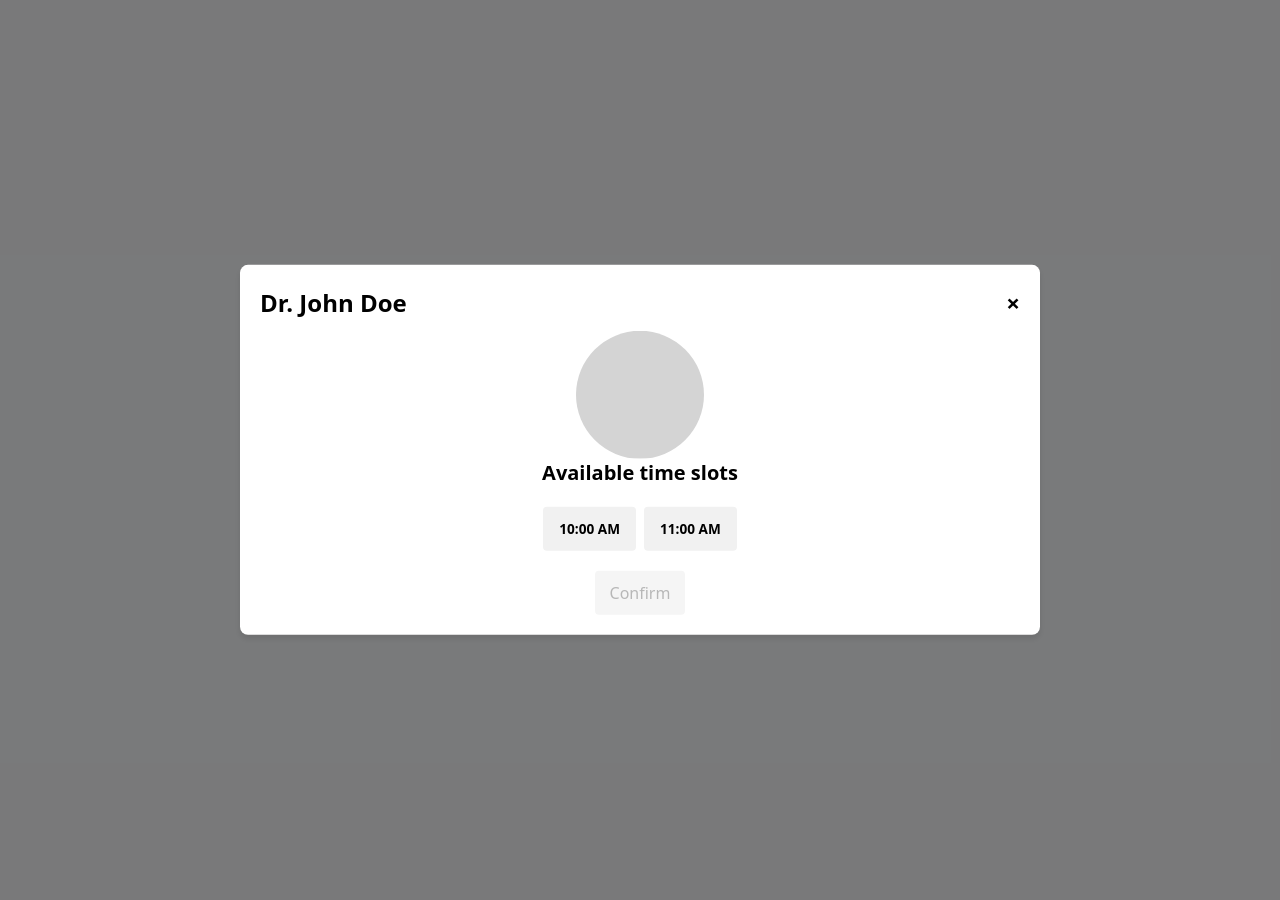
DoctorDetailsModal › deselects time slot when clicked twice
This screenshot has width=1280, height=900.
Click the button "10:00 AM" at (590, 529), box top-left (543, 507), bottom-right (636, 551)
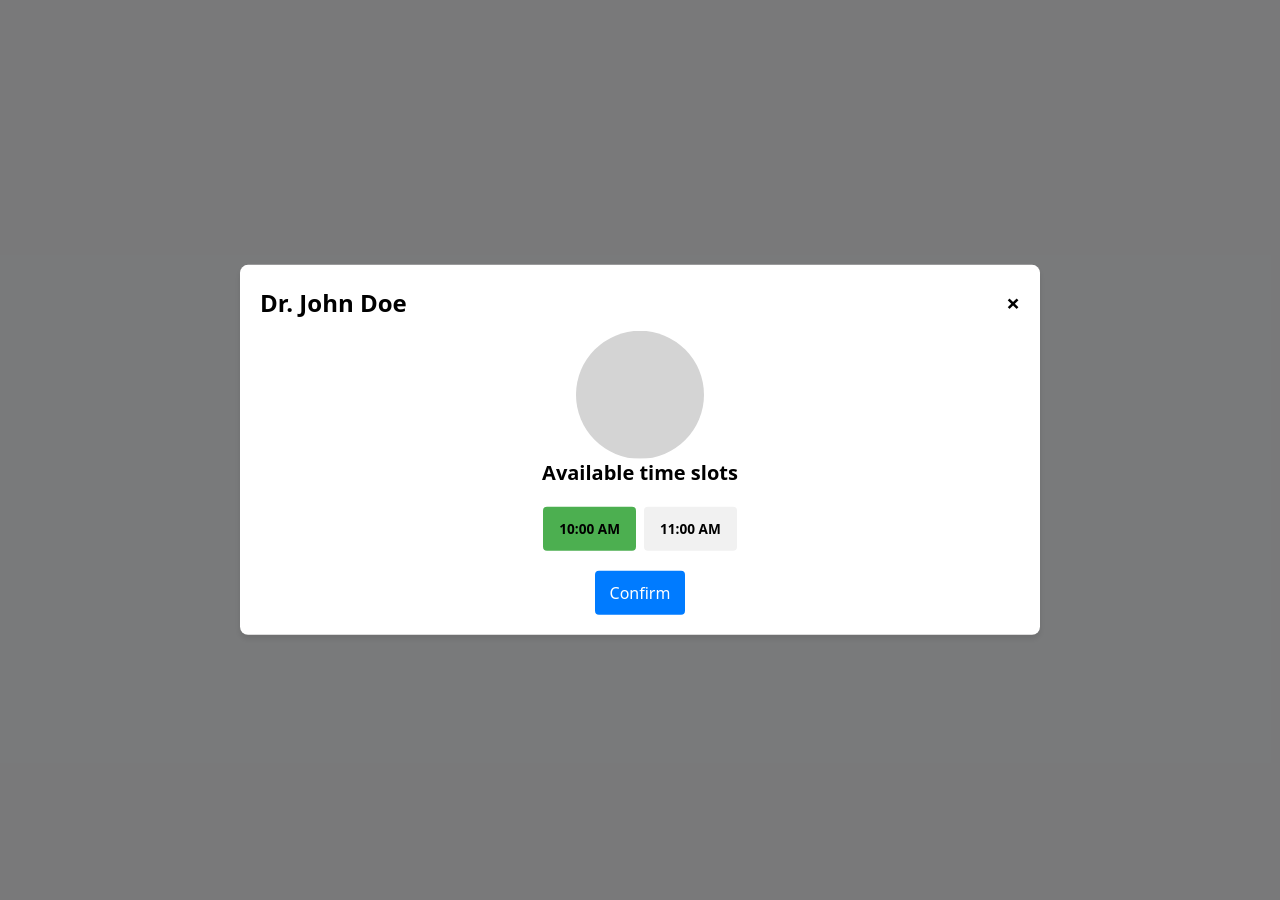
Click the button "10:00 AM" at (590, 529), box top-left (543, 507), bottom-right (636, 551)
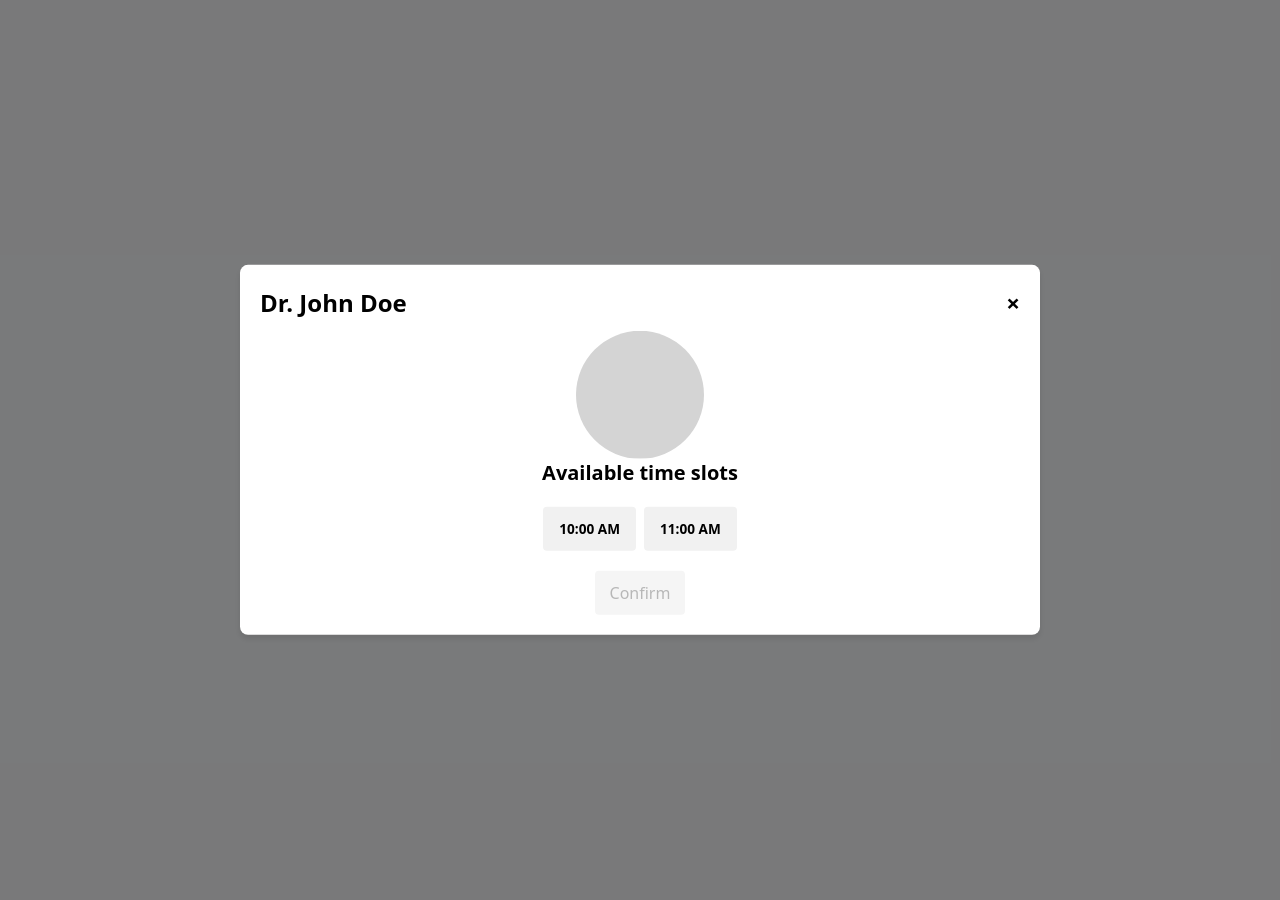
Expected: the button "Confirm" is disabled, top-left (594, 571), bottom-right (685, 615)
